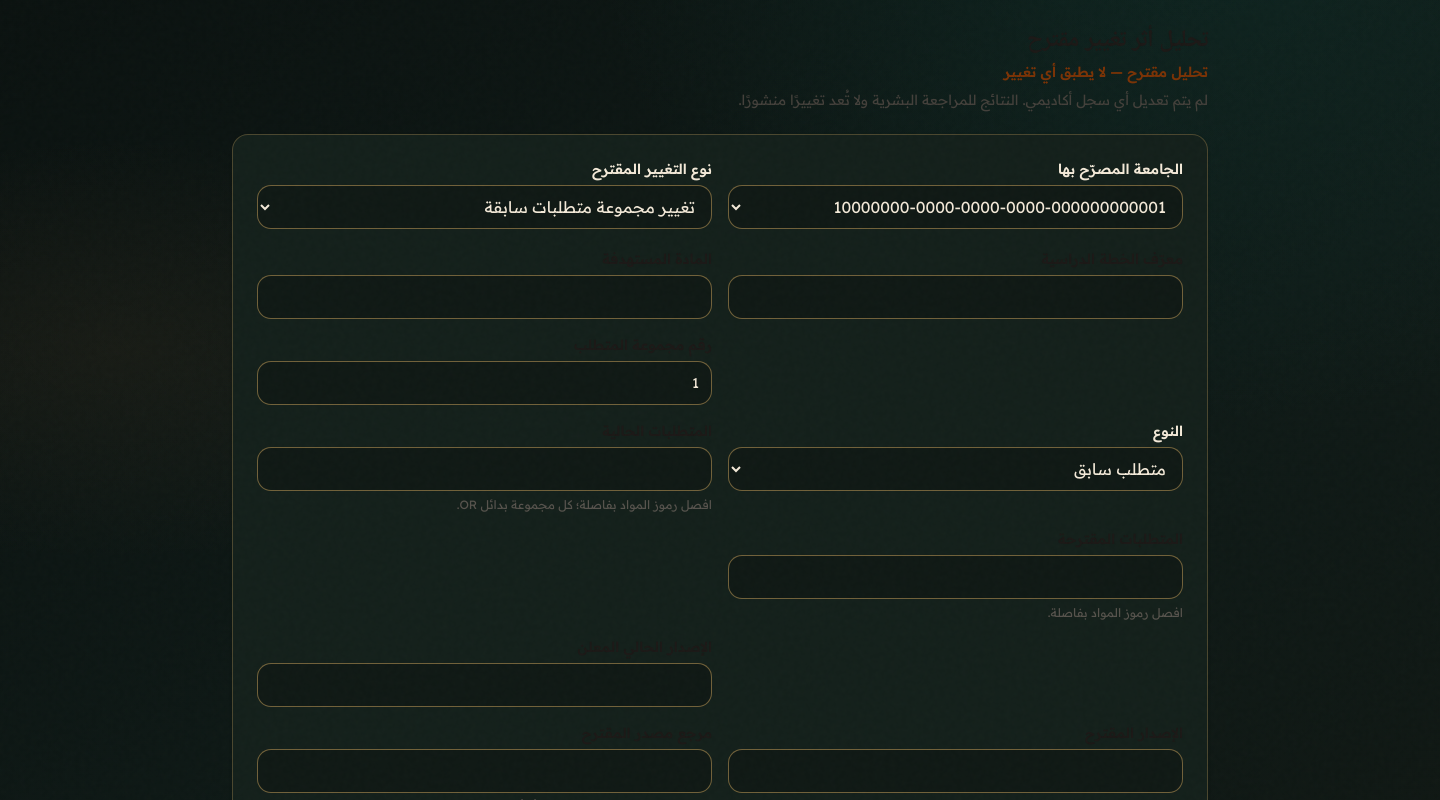
Test: submits typed proposal and shows bounded structural result, review and audit
Expected: the dropdown labelled "الجامعة المصرّح بها" is shown, [728,185,1183,229]
Type "10000000-0000-0000-0000-000000000005" into the field labelled "معرّف الخطة الدراسية" at (956, 297), box [728,275,1183,319]
Type "CS401" into the field labelled "المادة المستهدفة" at (484, 297), box [257,275,712,319]
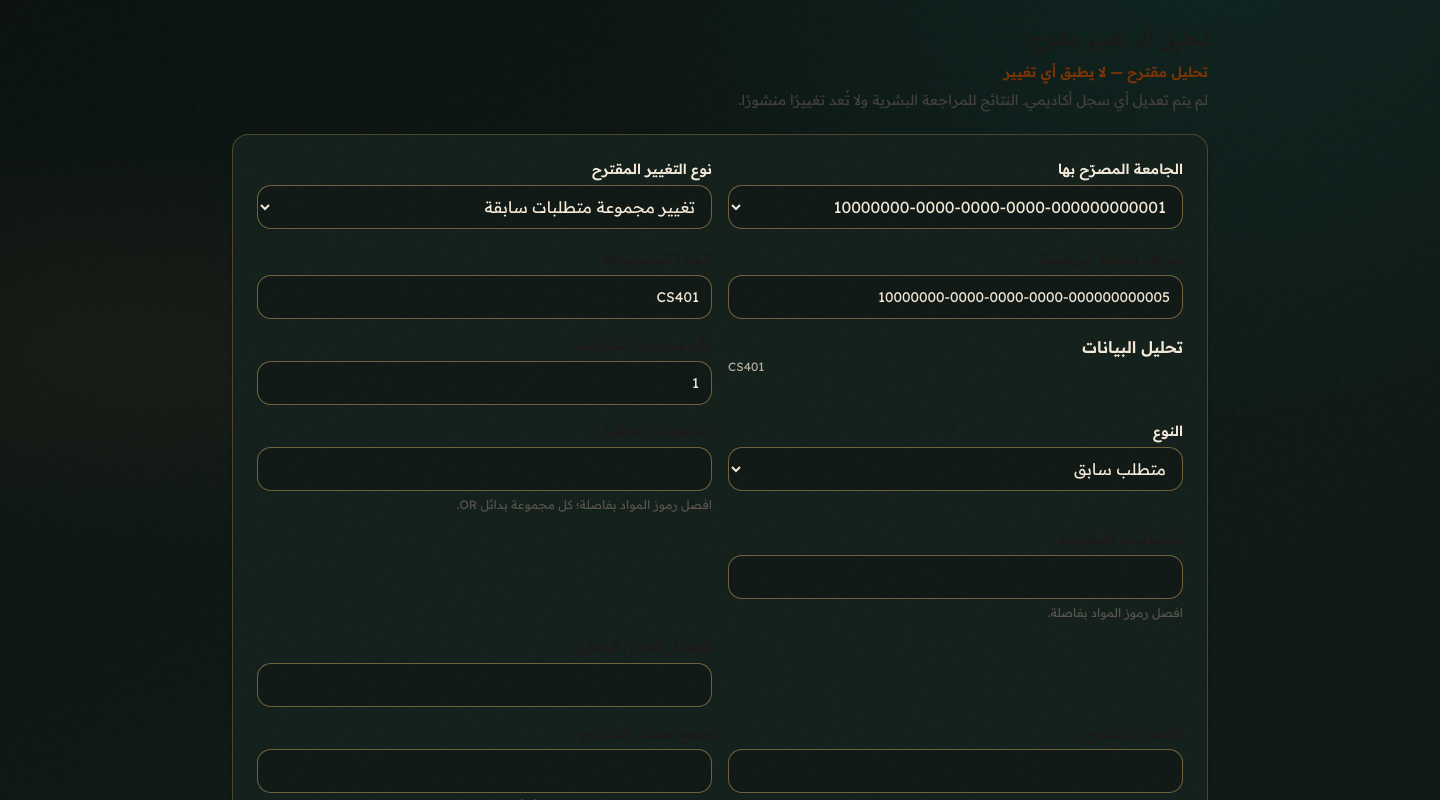
Type "CS101" into the field labelled "المتطلبات الحالية" at (484, 469), box [257,447,712,491]
Type "CS102" into the field labelled "المتطلبات المقترحة" at (956, 577), box [728,555,1183,599]
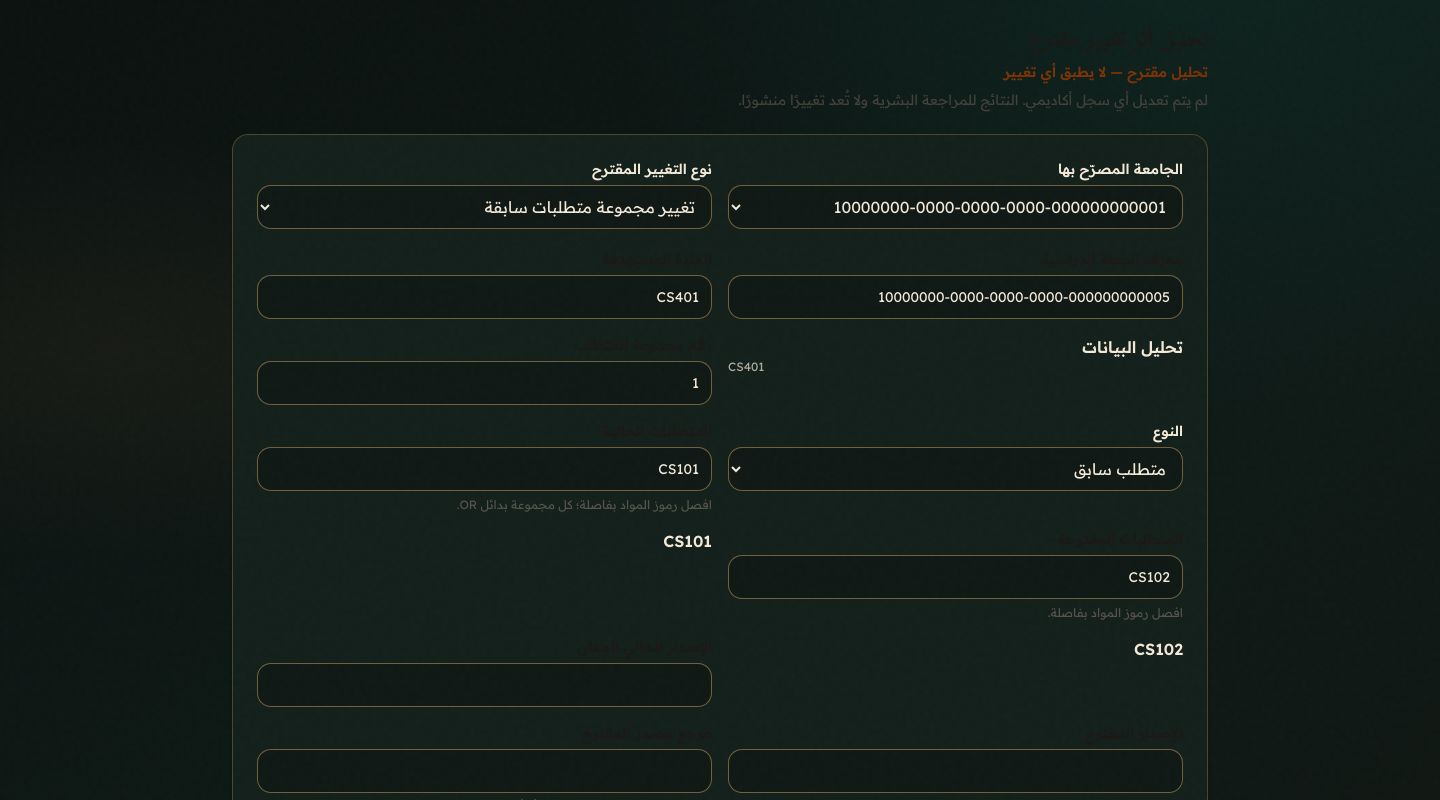
Type "v1" into the field labelled "الإصدار الحالي المعلن" at (484, 685), box [257,663,712,707]
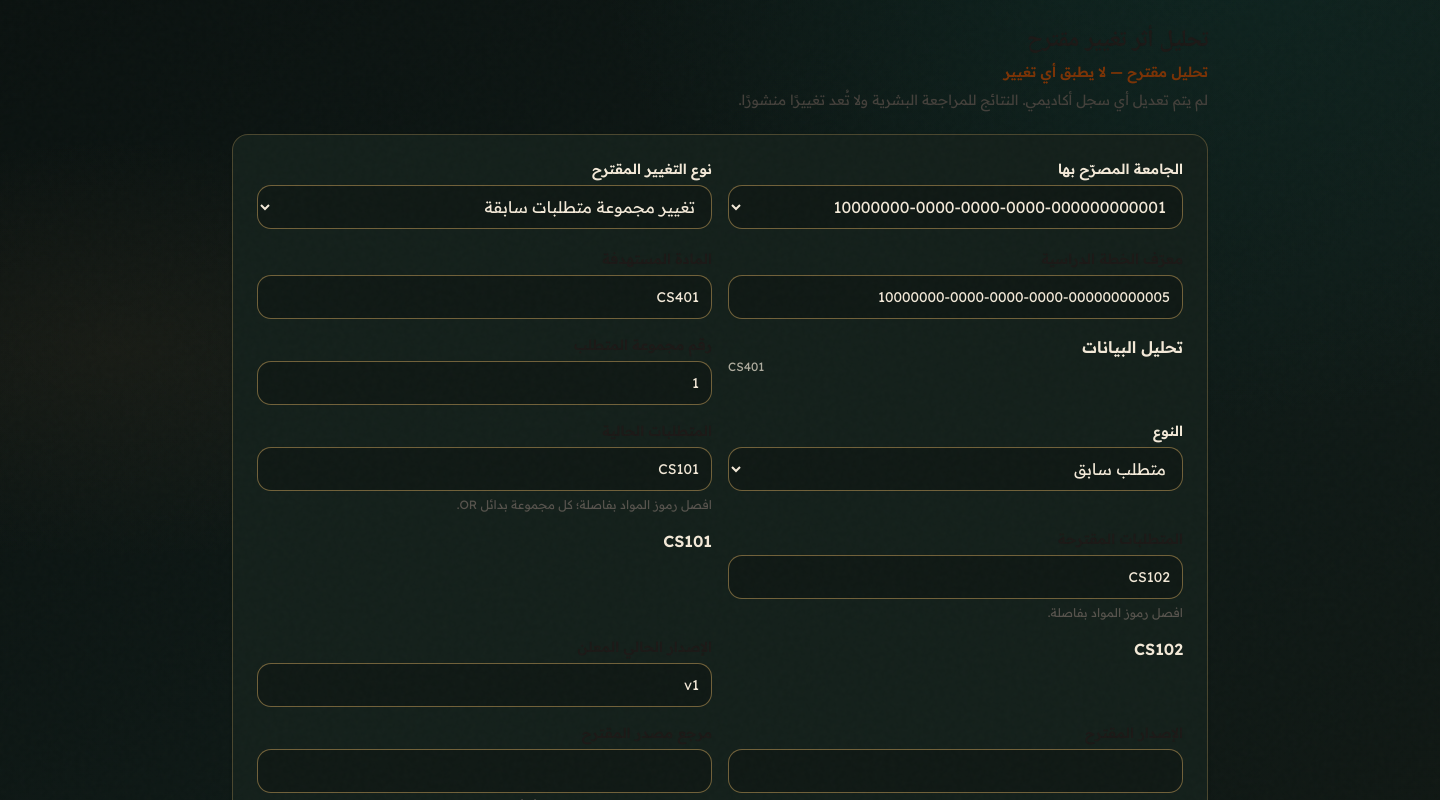
Type "v2" into the field labelled "الإصدار المقترح" at (956, 771), box [728,749,1183,793]
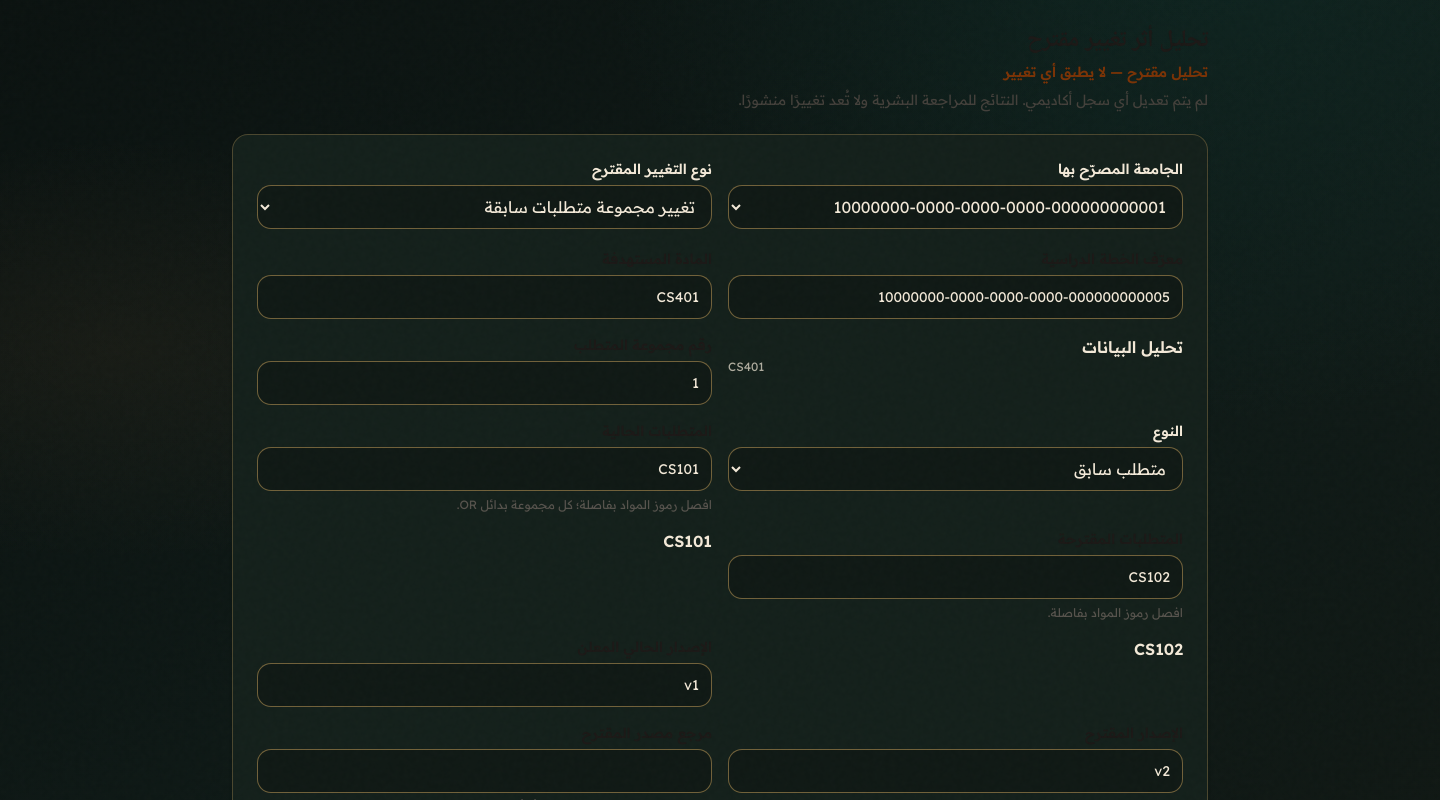
Type "review-1" into the field labelled "مرجع مصدر المقترح" at (484, 771), box [257,749,712,793]
(page scrolled)
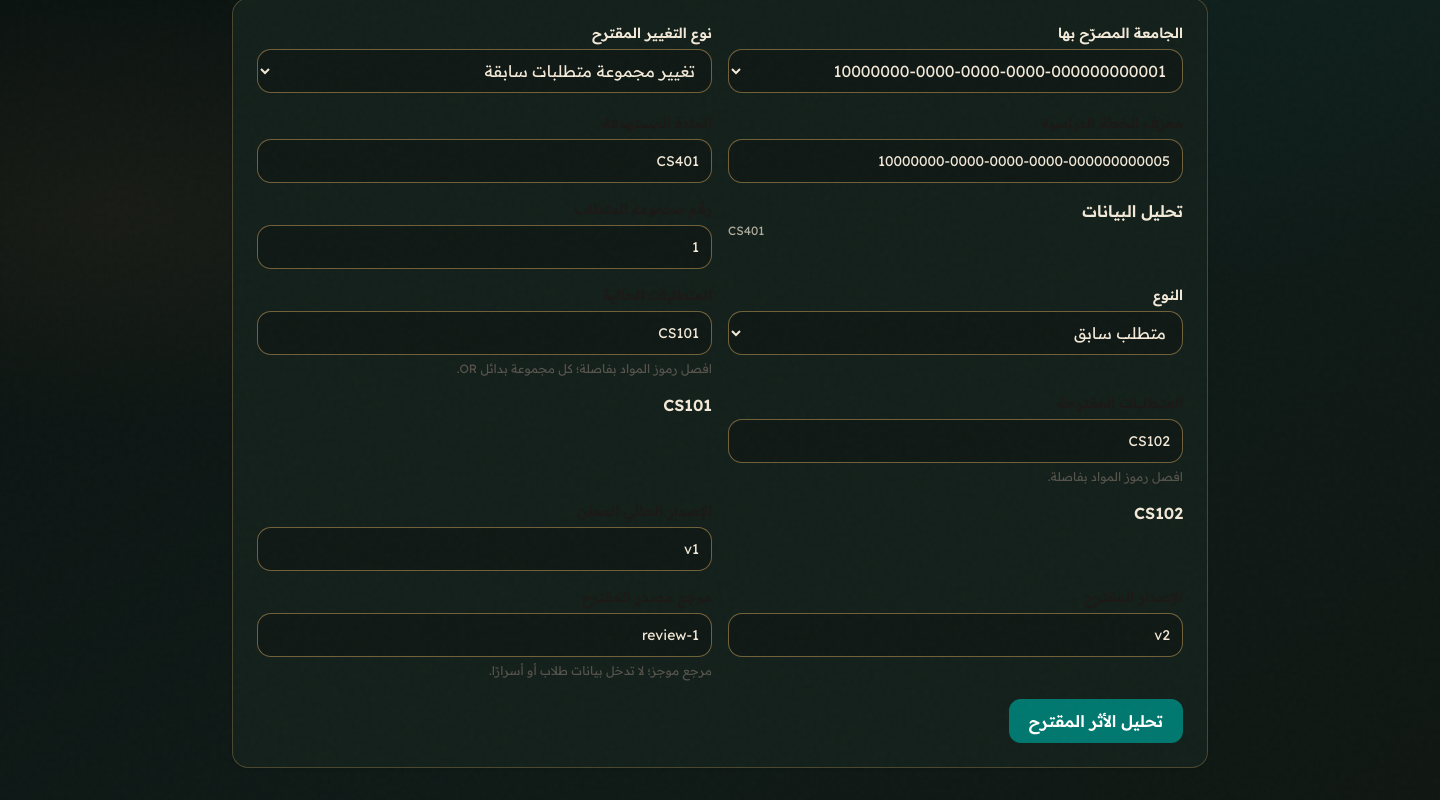
Click the button "تحليل الأثر المقترح" at (1096, 721), box [1009,699,1183,743]
(page scrolled)
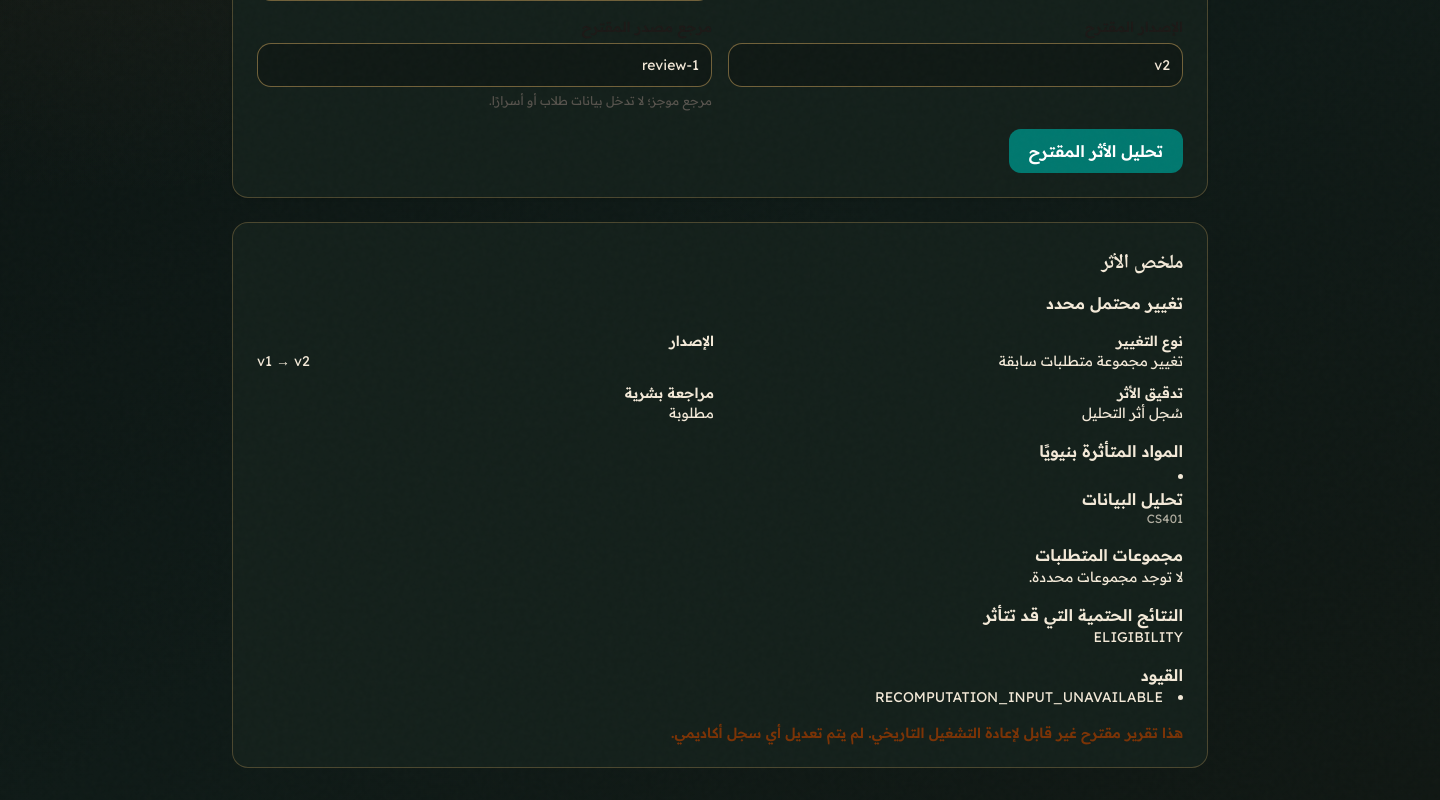
Expected: the heading "ملخص الأثر" is shown, [1101,250,1183,272]
Expected: the text "سُجل أثر التحليل" is shown, [1082,404,1183,422]
Expected: the text "مطلوبة" is shown, [669,404,714,422]
